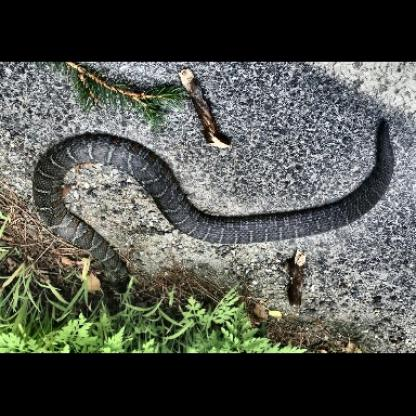Snake: (29, 112, 398, 300)
